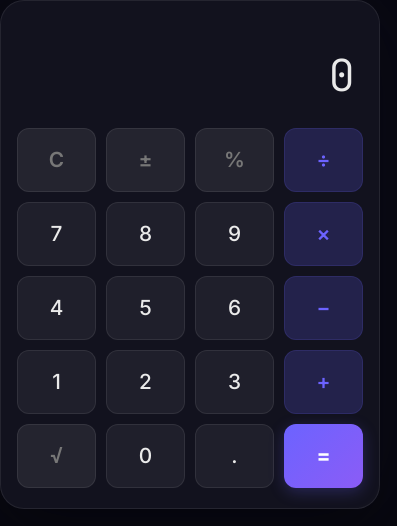
Test: Calculator component › clears the display
Click the button "9": (234, 234) [195,202,274,266]
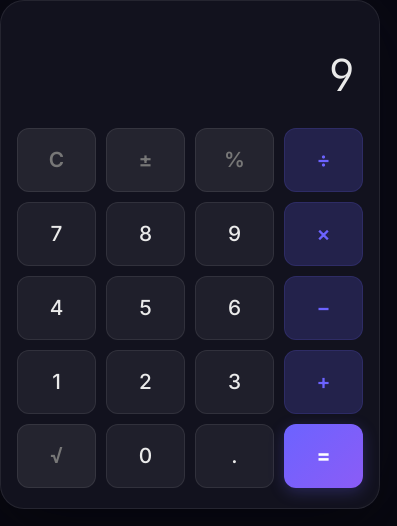
Click the button "C": (56, 160) [17,128,96,192]
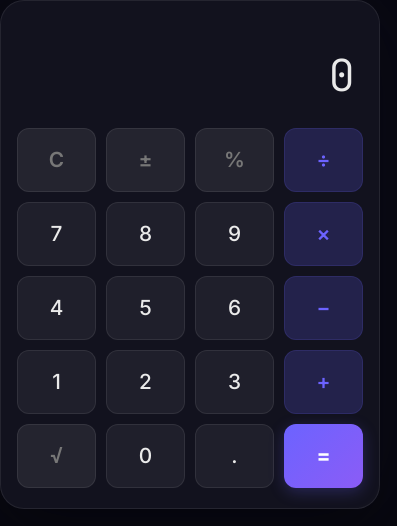
Expected: the text with id "display-value" reads "0", [329,46,355,104]
